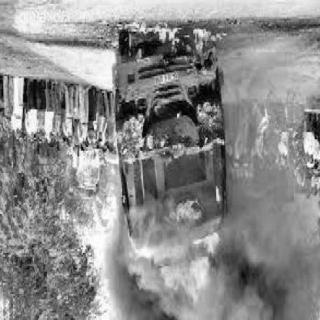Fire: (155, 236, 233, 314)
Smoke: (230, 201, 312, 320)
other: (116, 60, 216, 114)
